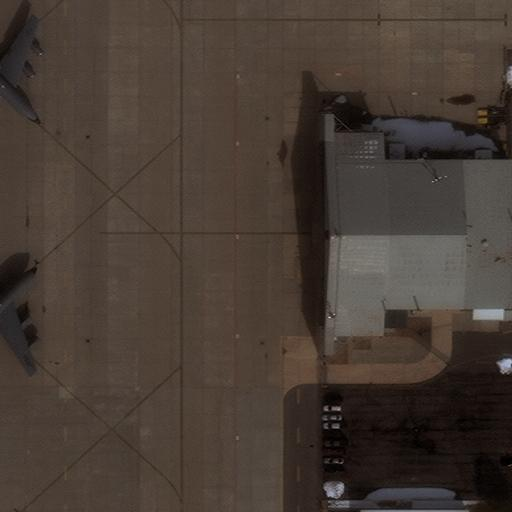Military Transport: (0, 19, 40, 123), (0, 267, 38, 370)
